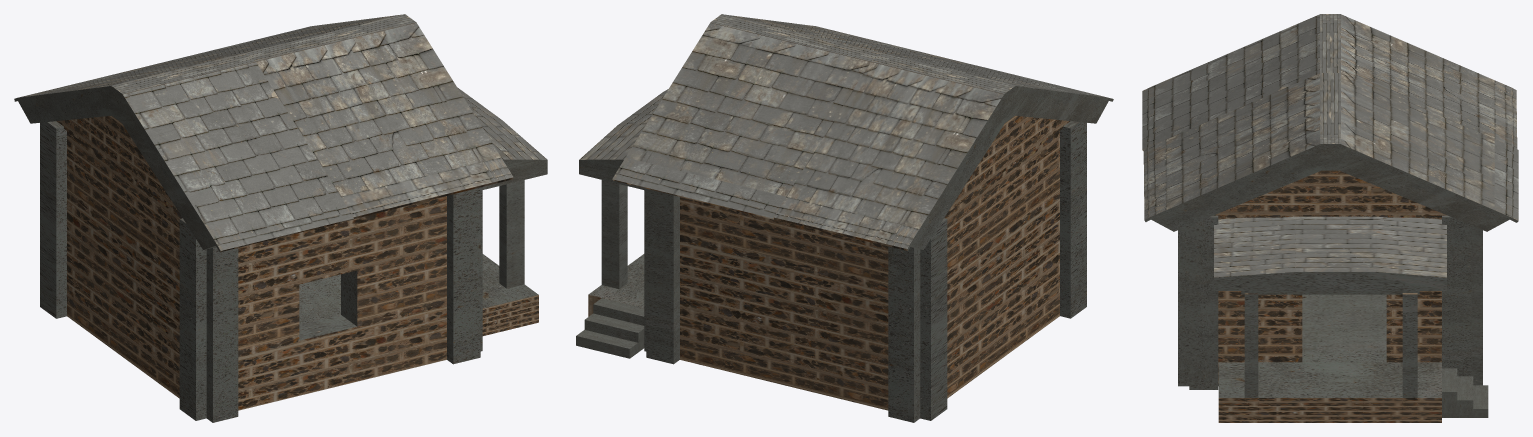
File: generatorbuilding.fbx
The picture shows the model from 3 angles, left to right: view 1: azimuth 30°, elevation 25°; view 2: azimuth 150°, elevation 25°; view 3: azimuth 270°, elevation 25°; orthographic projection. The views are drawn at different scales.
Visible parts, largest first — view 1: building_Main, building_Roof, building_Balc; view 2: building_Main, building_Roof, building_Balc, stairs; view 3: building_Roof, building_Balc, building_Main, stairs.
Boxes of the visible parts, x1,y1,x2,y2 form: building_Main: [40, 121, 482, 422]; building_Roof: [14, 14, 513, 252]; building_Balc: [457, 87, 547, 335]; building_Main: [644, 121, 1086, 422]; building_Roof: [612, 14, 1113, 250]; building_Balc: [579, 89, 668, 316]; stairs: [576, 298, 644, 358]; building_Roof: [1142, 14, 1518, 231]; building_Balc: [1214, 216, 1446, 422]; building_Main: [1178, 215, 1482, 389]; stairs: [1442, 368, 1488, 417].
Bounding box in the file's own units: 1366 × 985 × 1341.
